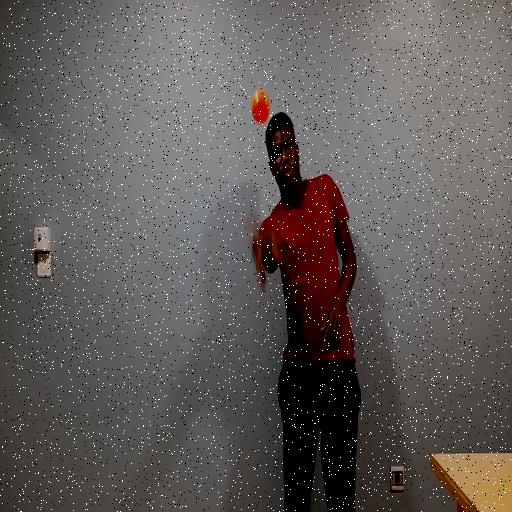plastic-ball: (248, 84, 274, 132)
